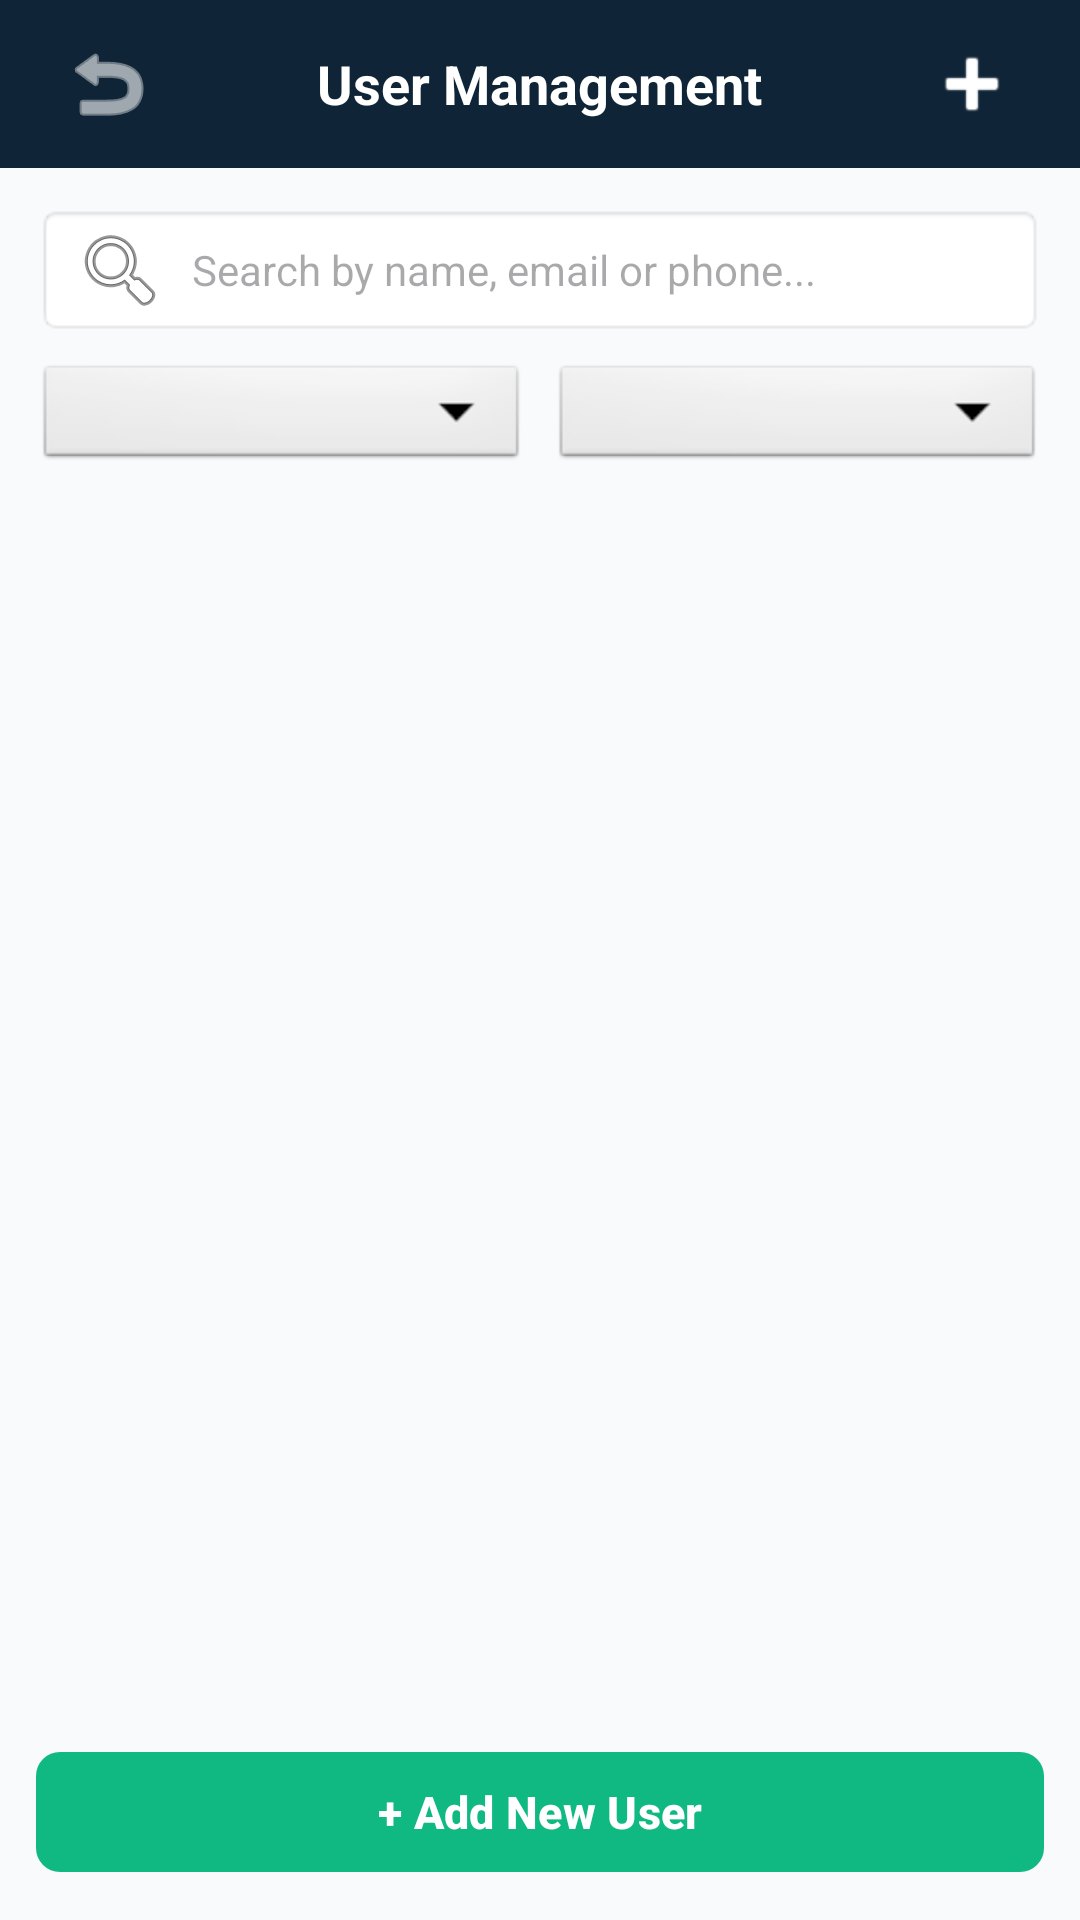

Named icons in this screenshot (1080w x 1920h) and their bounding boxes, [x1, y1, x2, y2]:
Back: [75, 53, 144, 116]
